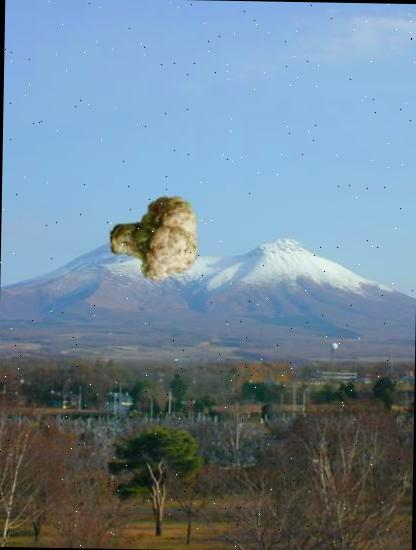Cauliflower: (107, 192, 200, 286)
